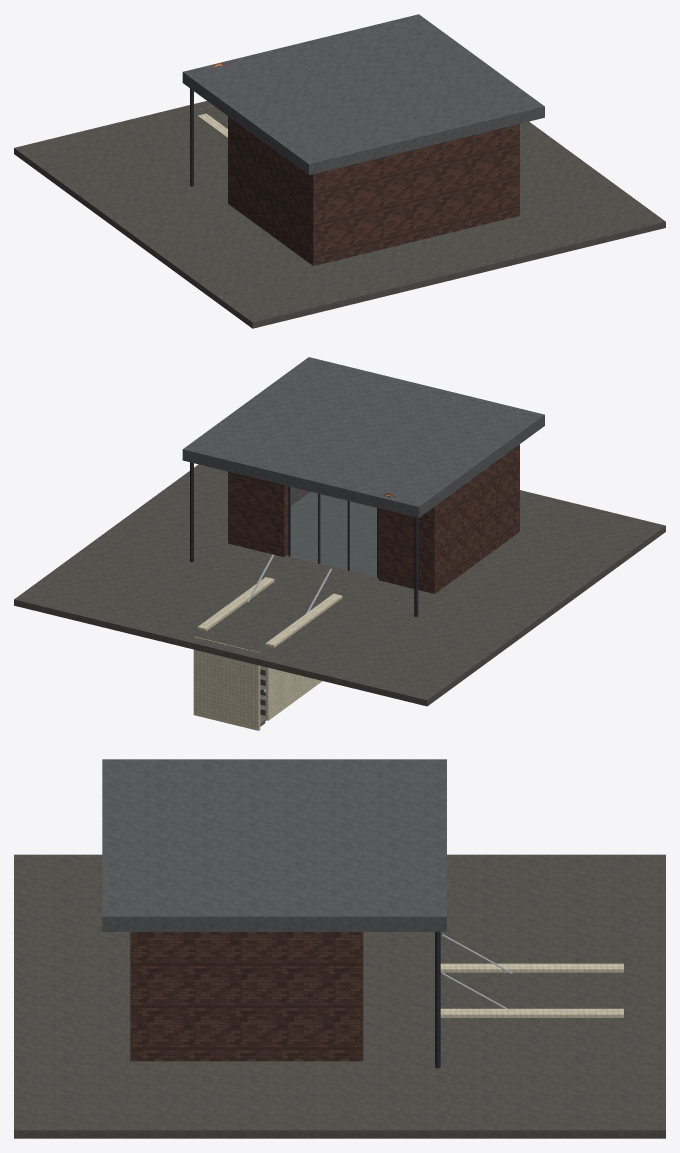
Rendered from station_cowcaddens_entrance.glb.
3 renders of one model, top to bottom at view 1: azimuth 30°, elevation 25°; view 2: azimuth 150°, elevation 25°; view 3: azimuth 270°, elevation 25°, orthographic. The views are drawn at different scales.
Parts seen in each view (by area): view 1: building, pavement; view 2: pavement, building, stair_well, glazing; view 3: pavement, building, stair_well.
Part boxes in pixels (x1=…): building: x1=182, y1=14, x2=544, y2=265; pavement: x1=14, y1=101, x2=665, y2=328; pavement: x1=14, y1=464, x2=665, y2=706; building: x1=182, y1=357, x2=544, y2=616; stair_well: x1=193, y1=554, x2=342, y2=730; glazing: x1=290, y1=487, x2=376, y2=577; pavement: x1=14, y1=854, x2=665, y2=1138; building: x1=102, y1=759, x2=446, y2=1068; stair_well: x1=440, y1=934, x2=623, y2=1017.
Size of the model in its own units: 14 by 6.26 by 14.
Materials: 10 (7 with a texture image).
